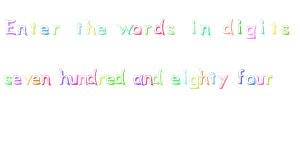E: (4, 17, 17, 35)
a: (132, 72, 144, 85)
d: (86, 66, 98, 85), (153, 17, 165, 35), (222, 17, 234, 35), (114, 67, 126, 85), (153, 67, 164, 86)
e: (38, 23, 50, 35), (170, 74, 181, 85), (105, 73, 115, 85), (31, 74, 40, 87), (97, 24, 107, 35), (13, 74, 22, 86)
f: (236, 67, 245, 85)
g: (245, 24, 257, 40), (189, 74, 200, 90)
h: (198, 66, 210, 85), (85, 18, 97, 35), (59, 68, 70, 85)
i: (190, 17, 198, 35), (259, 17, 267, 34), (182, 68, 189, 85), (236, 19, 243, 35)
n: (199, 23, 211, 36), (41, 73, 52, 86), (142, 72, 153, 85), (77, 74, 88, 85), (17, 24, 27, 35)
o: (245, 74, 256, 86), (131, 24, 142, 35)
r: (265, 72, 274, 86), (97, 73, 106, 85), (144, 23, 152, 36), (52, 24, 60, 36)
s: (280, 23, 290, 35), (3, 73, 12, 86), (166, 24, 175, 35)
t: (208, 69, 217, 85), (29, 20, 38, 35), (75, 20, 82, 35), (270, 21, 277, 34)
u: (68, 73, 79, 85), (256, 73, 265, 86)
v: (23, 74, 32, 86)
w: (116, 23, 133, 35)
y: (217, 73, 228, 89)
